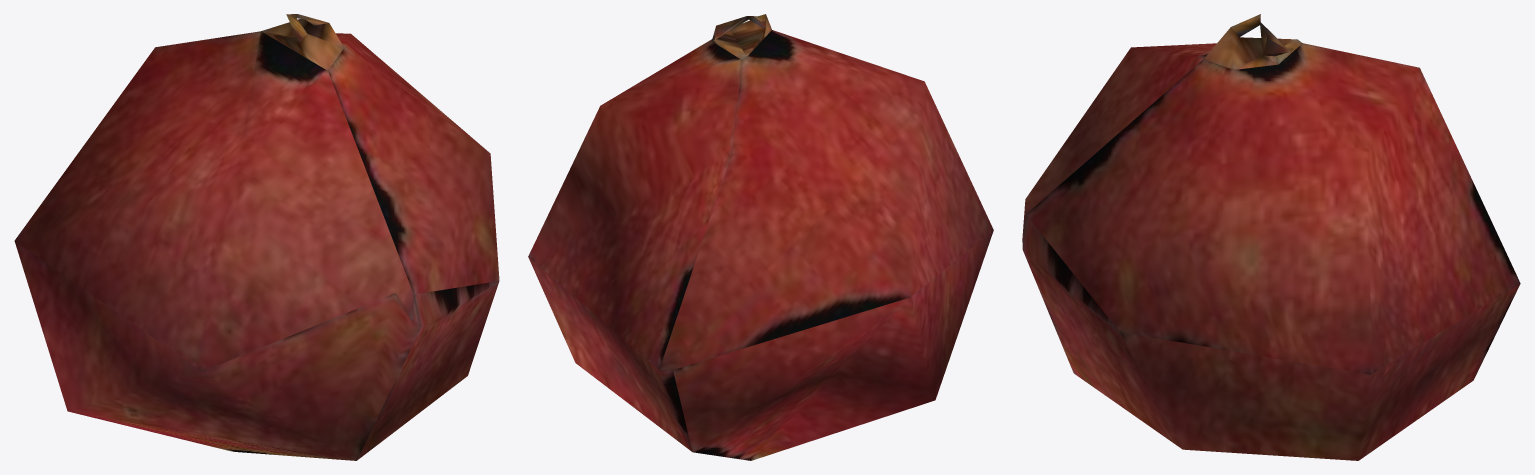
Rendered from food_pomegranate_01.glb.
3 renders of one model, left to right at view 1: azimuth 30°, elevation 25°; view 2: azimuth 150°, elevation 25°; view 3: azimuth 270°, elevation 25°, orthographic. The views are drawn at different scales.
Visible parts, largest first — view 1: food_pomegranate_01; view 2: food_pomegranate_01; view 3: food_pomegranate_01.
Part boxes in pixels (x1,y1,x2,y2): food_pomegranate_01: (14, 14, 499, 460); food_pomegranate_01: (528, 14, 993, 460); food_pomegranate_01: (1022, 14, 1520, 460).
Bounding box in the file's own units: 0.1087 × 0.1145 × 0.1143.
Materials: 1 (1 with a texture image).
